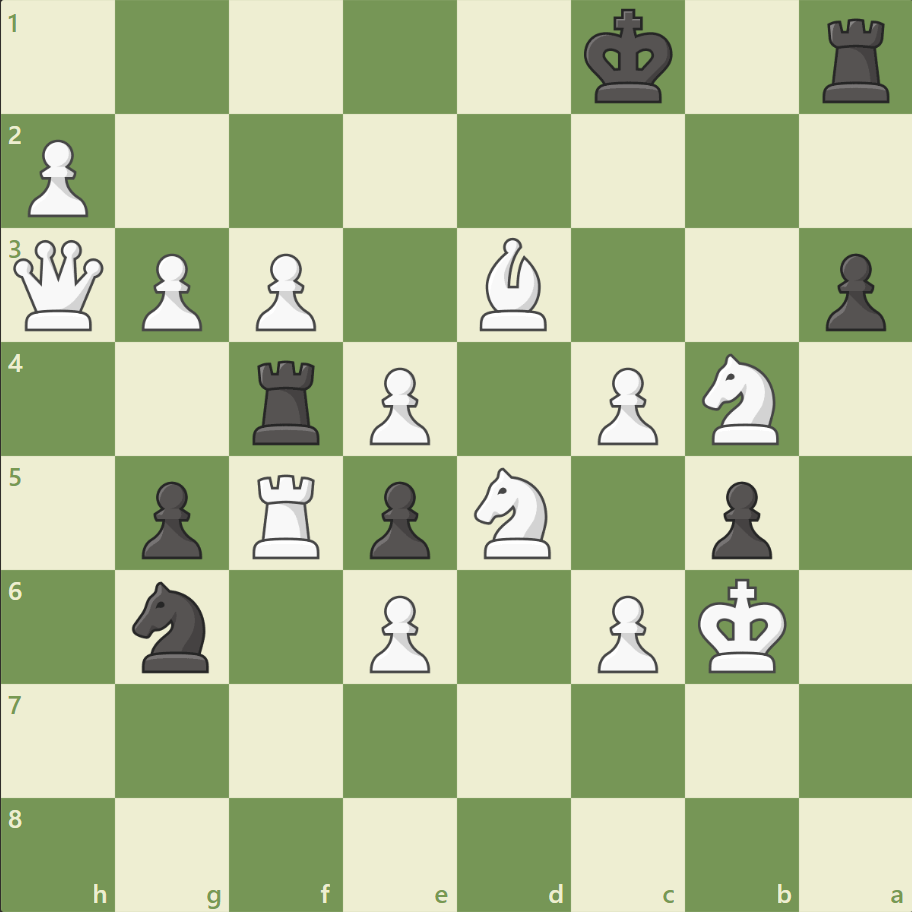B: (471, 233, 555, 336)
K: (692, 571, 792, 679)
N: (465, 461, 562, 564), (692, 348, 789, 450)
P: (247, 246, 322, 337), (133, 246, 208, 337), (20, 132, 95, 223), (588, 586, 662, 677), (361, 586, 435, 677), (588, 359, 662, 450), (361, 359, 435, 450)
Q: (10, 236, 109, 335)
R: (246, 466, 329, 563)
k: (579, 4, 679, 112)
n: (124, 575, 222, 677)
p: (701, 473, 776, 564), (133, 473, 208, 564), (361, 473, 435, 564), (815, 246, 889, 337)
r: (246, 352, 329, 449), (814, 12, 897, 109)
